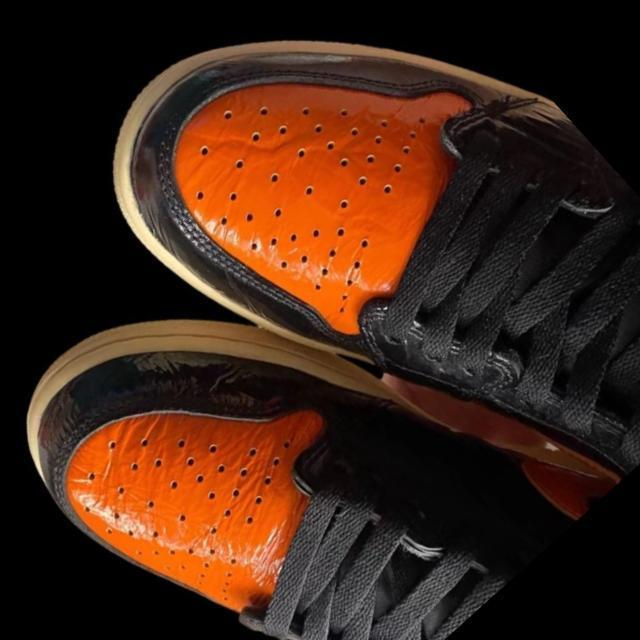nike original jordan 1: (60, 0, 640, 612), (0, 130, 617, 640)
